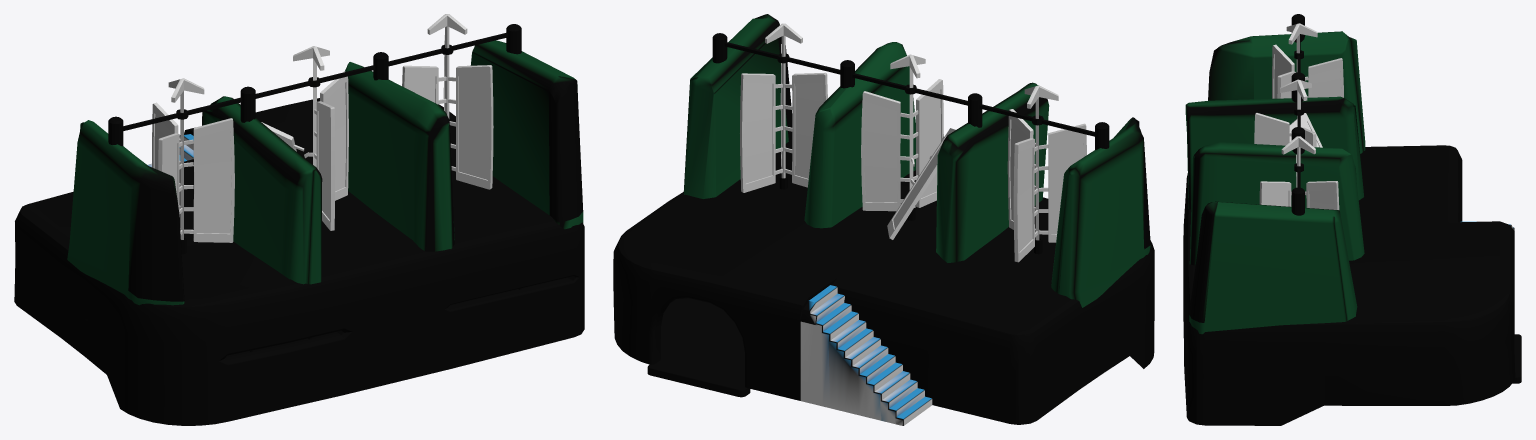
The model's file is SM_Windmill.fbx.
The picture shows the model from 3 angles, left to right: view 1: azimuth 30°, elevation 25°; view 2: azimuth 150°, elevation 25°; view 3: azimuth 270°, elevation 25°; orthographic projection. The views are drawn at different scales.
Parts seen in each view (by area): view 1: windmill_base, windmill_stuck, windmill_working, windmill_broken1; view 2: windmill_base, windmill_working, windmill_broken1, windmill_stuck, windmill_broken2; view 3: windmill_base, windmill_stuck, windmill_working, windmill_broken1.
Part boxes in pixels (x1,y1,x2,y2): windmill_base: [14, 24, 584, 425]; windmill_stuck: [152, 78, 234, 242]; windmill_working: [402, 14, 493, 189]; windmill_broken1: [293, 46, 348, 230]; windmill_base: [613, 14, 1154, 425]; windmill_working: [740, 23, 827, 192]; windmill_broken1: [861, 54, 943, 211]; windmill_stuck: [1007, 85, 1086, 262]; windmill_broken2: [887, 128, 955, 239]; windmill_base: [1183, 14, 1521, 425]; windmill_stuck: [1272, 23, 1343, 98]; windmill_working: [1259, 136, 1339, 209]; windmill_broken1: [1254, 79, 1316, 147].
Bounding box in the file's own units: 1630 × 1038 × 1252.
